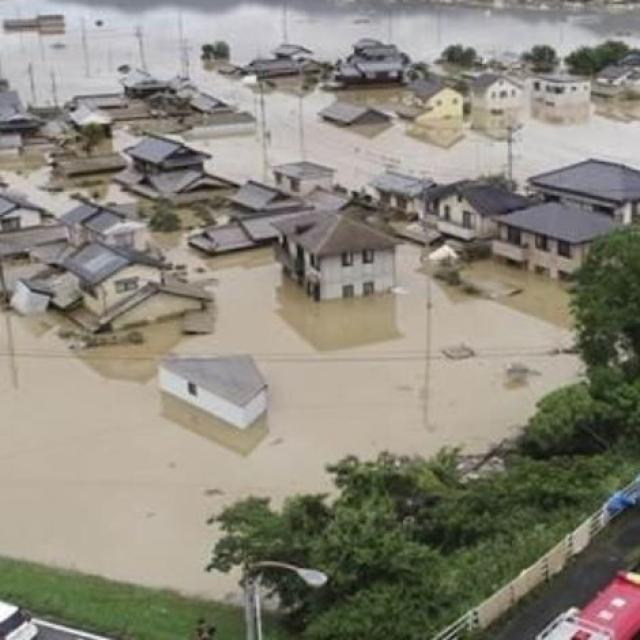flood: (0, 201, 584, 600), (0, 0, 640, 192), (0, 140, 154, 216)
house: (286, 204, 396, 307), (154, 354, 272, 432), (61, 240, 168, 322), (534, 558, 640, 639), (502, 201, 606, 272), (530, 156, 640, 220), (424, 182, 509, 234), (129, 135, 210, 184), (344, 43, 404, 82), (531, 72, 590, 106), (322, 101, 390, 130), (253, 44, 314, 76), (412, 82, 467, 112), (475, 72, 522, 102)
